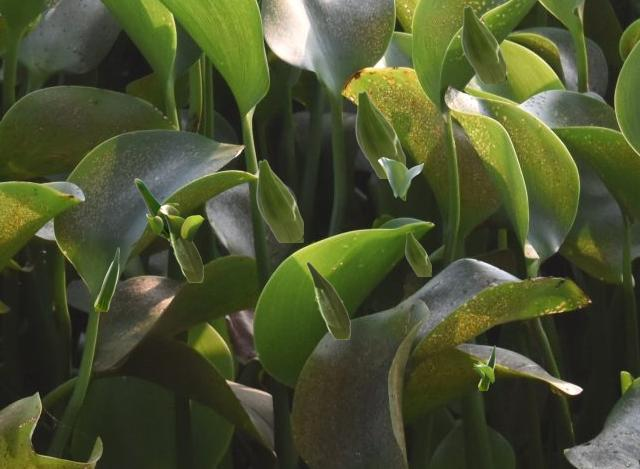okra: (355, 90, 404, 177), (256, 159, 302, 241), (461, 5, 505, 82), (306, 261, 349, 338), (163, 214, 202, 281), (134, 178, 169, 241), (94, 247, 118, 310), (405, 231, 430, 275), (478, 345, 494, 389)
